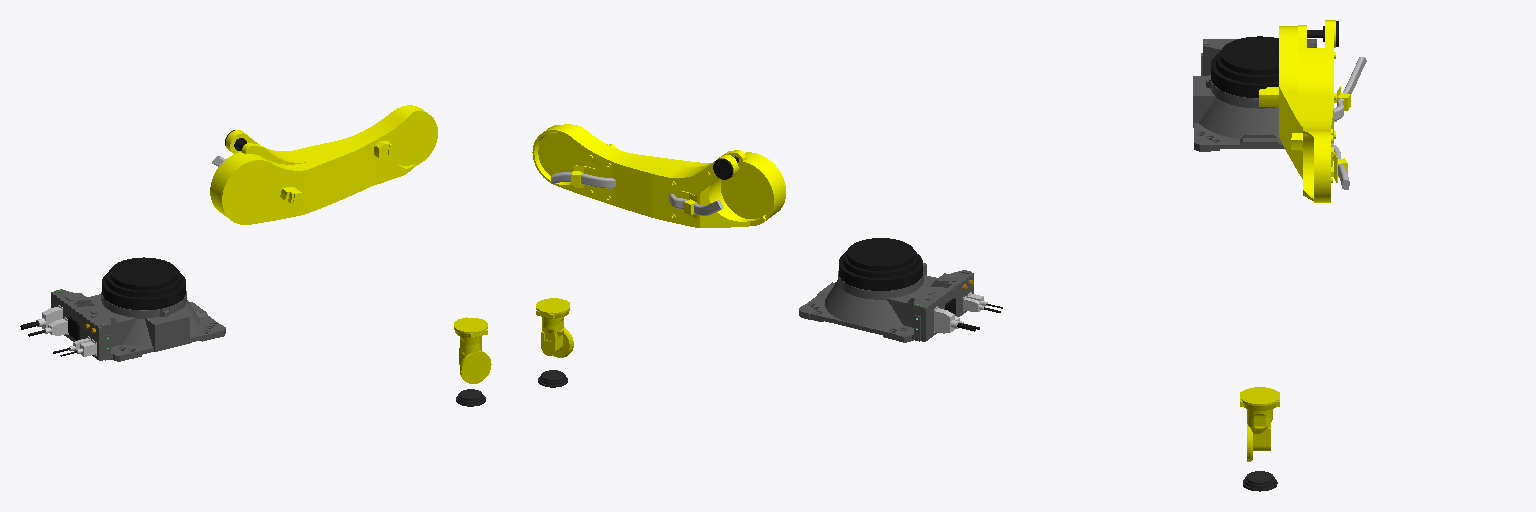
robot.urdf — r2000ic_210r:
<?xml version='1.0' encoding='utf-8'?>
<robot name="r2000ic_210r">
  <link name="world" />
  <link name="ee_link" />
  
  <link name="base_link">
    <visual>
      <origin rpy="0 0 0" xyz="0 0 0" />
      <geometry>
        <mesh filename="meshes/base.dae" />
      </geometry>
    </visual>
    <collision>
      <origin rpy="0 0 0" xyz="0 0 0" />
      <geometry>
        <mesh filename="meshes/base.stl" />
      </geometry>
    </collision>
    <inertial>
      <mass value=" 189" />
      <origin xyz="-.104 -.00417 .135" />
      <inertia ixx=" 5.95" ixy=" .0712" ixz="-.13" iyy=" 11.6" iyz=" .00636" izz=" 14.8" />
    </inertial>
  </link>
  <link name="J1_link">
    <visual>
      <origin rpy="0 0 0" xyz="0 0 0" />
      <geometry>
        <mesh filename="meshes/j1.dae" />
      </geometry>
    </visual>
    <collision>
      <origin rpy="0 0 0" xyz="0 0 0" />
      <geometry>
        <mesh filename="meshes/j1.stl" />
      </geometry>
    </collision>
    <inertial>
      <mass value=" 682" />
      <origin xyz=".202 .145 -.0127" />
      <inertia ixx=" 48.9" ixy=" 7.01" ixz="-2.91" iyy=" 85.6" iyz="-4.57" izz=" 100" />
    </inertial>
  </link>
  <link name="J2_link">
    <visual>
      <origin rpy="0 0 0" xyz="0 0 0" />
      <geometry>
        <mesh filename="meshes/j2.dae" />
      </geometry>
    </visual>
    <collision>
      <origin rpy="0 0 0" xyz="0 0 0" />
      <geometry>
        <mesh filename="meshes/j2.stl" />
      </geometry>
    </collision>
    <inertial>
      <mass value=" 221" />
      <origin xyz=".434 .246 .00114" />
      <inertia ixx=" 4.59" ixy="-1.48" ixz=" .7" iyy=" 28.3" iyz="-.198" izz=" 28" />
    </inertial>
  </link>
  <link name="J3_link">
    <visual>
      <origin rpy="0 0 0" xyz="0 0 0" />
      <geometry>
        <mesh filename="meshes/j3.dae" />
      </geometry>
    </visual>
    <collision>
      <origin rpy="0 0 0" xyz="0 0 0" />
      <geometry>
        <mesh filename="meshes/j3.stl" />
      </geometry>
    </collision>
    <inertial>
      <mass value=" 250" />
      <origin xyz=".127 .055 -.324" />
      <inertia ixx=" 24.8" ixy=" .409" ixz=" 3.13" iyy=" 24.3" iyz="-1.15" izz=" 7.83" />
    </inertial>
  </link>
  <link name="J4_link">
    <visual>
      <origin rpy="0 0 0" xyz="0 0 0" />
      <geometry>
        <mesh filename="meshes/j4.dae" />
      </geometry>
    </visual>
    <collision>
      <origin rpy="0 0 0" xyz="0 0 0" />
      <geometry>
        <mesh filename="meshes/j4.stl" />
      </geometry>
    </collision>
    <inertial>
      <mass value=" 9.89" />
      <origin xyz="-.0000000108 -.00867 -1.18" />
      <inertia ixx=" .0868" ixy="-.000000000103" ixz=" .00000000763" iyy=" .0888" iyz="-.00519" izz=" .0386" />
    </inertial>
  </link>
  <link name="J5_link">
    <visual>
      <origin rpy="0 0 0" xyz="0 0 0" />
      <geometry>
        <mesh filename="meshes/j5.dae" />
      </geometry>
    </visual>
    <collision>
      <origin rpy="0 0 0" xyz="0 0 0" />
      <geometry>
        <mesh filename="meshes/j5.stl" />
      </geometry>
    </collision>
    <inertial>
      <mass value=" 18" />
      <origin xyz="-.00000000195 -.0214 -.0485" />
      <inertia ixx=" .196" ixy=" .0000000000649" ixz=" .00000000371" iyy=" .158" iyz=" .0204" izz=" .134" />
    </inertial>
  </link>
  <link name="J6_link">
    <visual>
      <origin rpy="0 0 0" xyz="0 0 0" />
      <geometry>
        <mesh filename="meshes/j6.dae" />
      </geometry>
    </visual>
    <collision>
      <origin rpy="0 0 0" xyz="0 0 0" />
      <geometry>
        <mesh filename="meshes/j6.stl" />
      </geometry>
    </collision>
    <inertial>
      <mass value=" .921" />
      <origin xyz=".0000957 -.0000000101 -.198" />
      <inertia ixx=" .00139" ixy=" .0000000000755" ixz=" .000000658" iyy=" .00139" iyz="-.0000000000115" izz=" .00258" />
    </inertial>
  </link>
  
  <joint name="J1" type="revolute">
    <origin rpy="0 0 0" xyz="0 0 .6" />
    <parent link="base_link" />
    <child link="J1_link" />
    <axis xyz="0 0 1" />
    <limit effort="10000" lower="-3.2288591161895095" upper="3.2288591161895095" velocity="1.8325957145940461" />
  </joint>
  <joint name="J2" type="revolute">
    <origin rpy="0 0 0" xyz=".72 0 0" />
    <parent link="J1_link" />
    <child link="J2_link" />
    <axis xyz="0 1 0" />
    <limit effort="20000" lower="-2.0943951023931953" upper="1.3962634015954636" velocity="1.7453292519943295" />
  </joint>
  <joint name="J3" type="revolute">
    <origin rpy="0 0 0" xyz="1.075 0 0" />
    <parent link="J2_link" />
    <child link="J3_link" />
    <axis xyz="0 -1 0" />
    <limit effort="20000" lower="-1.3788101090755203" upper="3.141592653589793" velocity="1.9198621771937625" />
  </joint>
  <joint name="J4" type="revolute">
    <origin rpy="0 0 0" xyz=".225 0 0" />
    <parent link="J3_link" />
    <child link="J4_link" />
    <axis xyz="0 0 1" />
    <limit effort="5000" lower="-6.283185307179586" upper="6.283185307179586" velocity="2.443460952792061" />
  </joint>
  <joint name="J5" type="revolute">
    <origin rpy="0 0 0" xyz="0 0 -1.28" />
    <parent link="J4_link" />
    <child link="J5_link" />
    <axis xyz="0 -1 0" />
    <limit effort="5000" lower="-2.181661564992912" upper="2.181661564992912" velocity="2.443460952792061" />
  </joint>
  <joint name="J6" type="revolute">
    <origin rpy="0 0 0" xyz="0 0 0" />
    <parent link="J5_link" />
    <child link="J6_link" />
    <axis xyz="0 0 1" />
    <limit effort="3000" lower="-6.283185307179586" upper="6.283185307179586" velocity="3.839724354387525" />
  </joint>
  
  <link name="wbase" />
  <joint name="base_link-wbase" type="fixed">
    <origin rpy="0 0 0" xyz="0 0 .6" />
    <parent link="base_link" />
    <child link="wbase" />
  </joint>
  
  <link name="flange" />
  <joint name="J6-flange" type="fixed">
    <origin rpy="0 0 0" xyz="0 0 -.215" />
    <parent link="J6_link" />
    <child link="flange" />
  </joint>
  
  <link name="fanuc_flange" />
  <joint name="flange-fanuc_flange" type="fixed">
    <origin rpy="3.141592653589793 0.0 0.0" xyz="0 0 0" />
    <parent link="flange" />
    <child link="fanuc_flange" />
  </joint>
  
  <joint name="base_joint" type="fixed">
    <origin rpy="0 0 0" xyz="0 0 0" />
    <parent link="world" />
    <child link="base_link" />
  </joint>
  
  <joint name="child_joint" type="fixed">
    <origin rpy="0 0 0" xyz="0 0 0" />
    <parent link="flange" />
    <child link="ee_link" />
  </joint>
</robot>

--- What the picture shows (computed from the rendered views, not written in the file) ---
The picture shows the robot from 3 angles, left to right: view 1: azimuth 30°, elevation 25°; view 2: azimuth 150°, elevation 25°; view 3: azimuth 270°, elevation 25°; orthographic projection.
Robot: r2000ic_210r — 12 links, 11 joints (6 revolute, 5 fixed); root link world; default pose: all joints at 0.
Visible links, largest first — view 1: J2_link, base_link, J4_link; view 2: J2_link, base_link, J4_link; view 3: J2_link, base_link, J4_link, J6_link.
Link boxes in pixels (x1=…): J2_link: x1=210, y1=105, x2=437, y2=224; base_link: x1=20, y1=257, x2=225, y2=361; J4_link: x1=454, y1=317, x2=491, y2=383; J2_link: x1=532, y1=124, x2=785, y2=227; base_link: x1=799, y1=238, x2=1002, y2=342; J4_link: x1=536, y1=298, x2=573, y2=357; J2_link: x1=1259, y1=20, x2=1366, y2=202; base_link: x1=1193, y1=36, x2=1316, y2=151; J4_link: x1=1240, y1=387, x2=1279, y2=461; J6_link: x1=1243, y1=471, x2=1277, y2=491.
Size in the robot's own frame: 2.78 by 0.7958 by 1.75 metres.
Meshes: 7 distinct files referenced, 4 mesh visuals loaded (4 Collada DAE); not drawn: 3 (reference not matched to a file when rendering).
